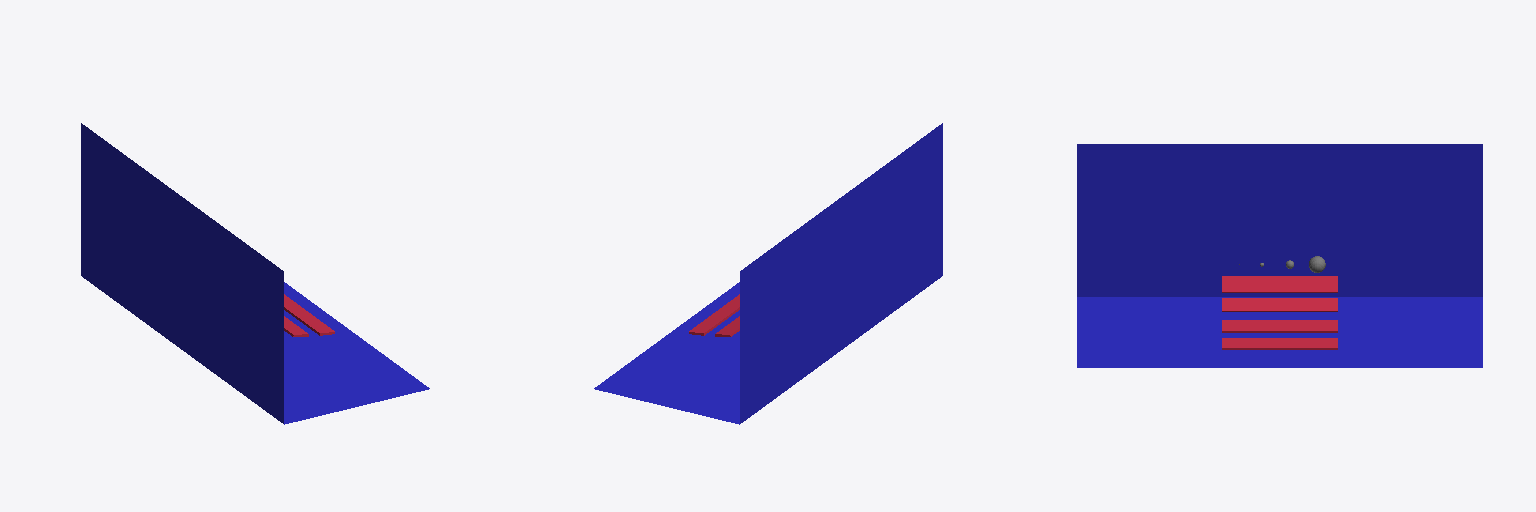
Rendered from veach-mis.obj.
3 views of the same model, side by side, from view 1: azimuth 30°, elevation 25°; view 2: azimuth 150°, elevation 25°; view 3: azimuth 270°, elevation 25° (orthographic).
Visible parts, largest first — view 1: default; view 2: default; view 3: default.
Part boxes in pixels (x1,y1,x2,y2): default: (81, 123, 429, 424); default: (594, 123, 942, 424); default: (1077, 144, 1482, 367).
Size of the model in its own units: 19.8 by 19.8 by 47.52.